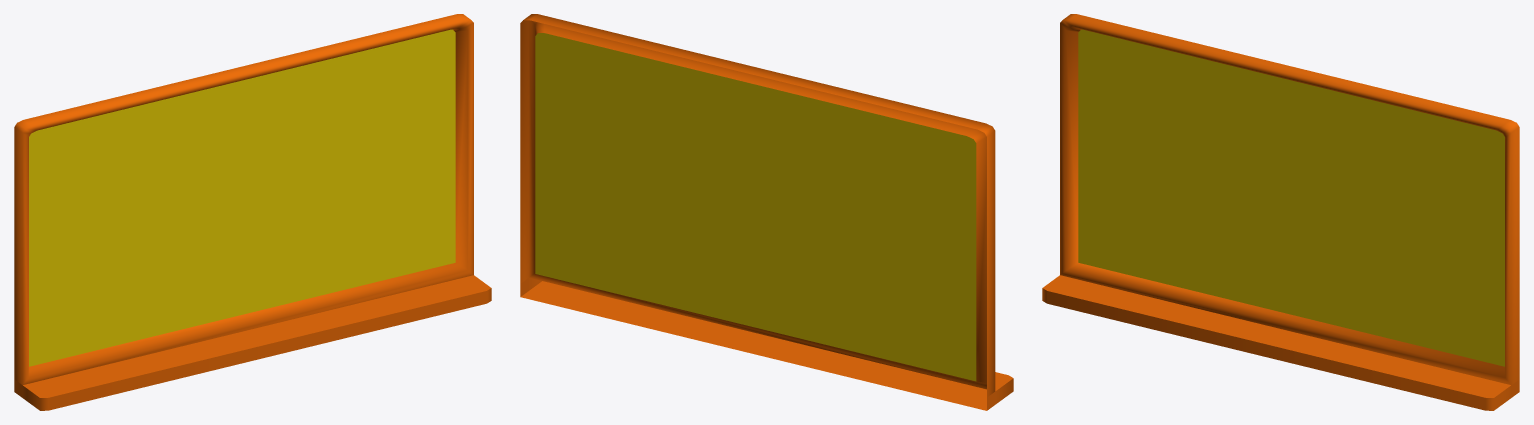
The model's file is blackboard.fbx.
The picture shows the model from 3 angles, left to right: view 1: azimuth 30°, elevation 25°; view 2: azimuth 150°, elevation 25°; view 3: azimuth 330°, elevation 25°; orthographic projection. The views are drawn at different scales.
Visible parts, largest first — view 1: Cube.001; view 2: Cube.001; view 3: Cube.001.
Part boxes in pixels (bbox=[...]): Cube.001: bbox=[14, 14, 491, 410]; Cube.001: bbox=[520, 14, 1013, 410]; Cube.001: bbox=[1042, 14, 1519, 410].
Size of the model in its own units: 350 by 200 by 36.94.
